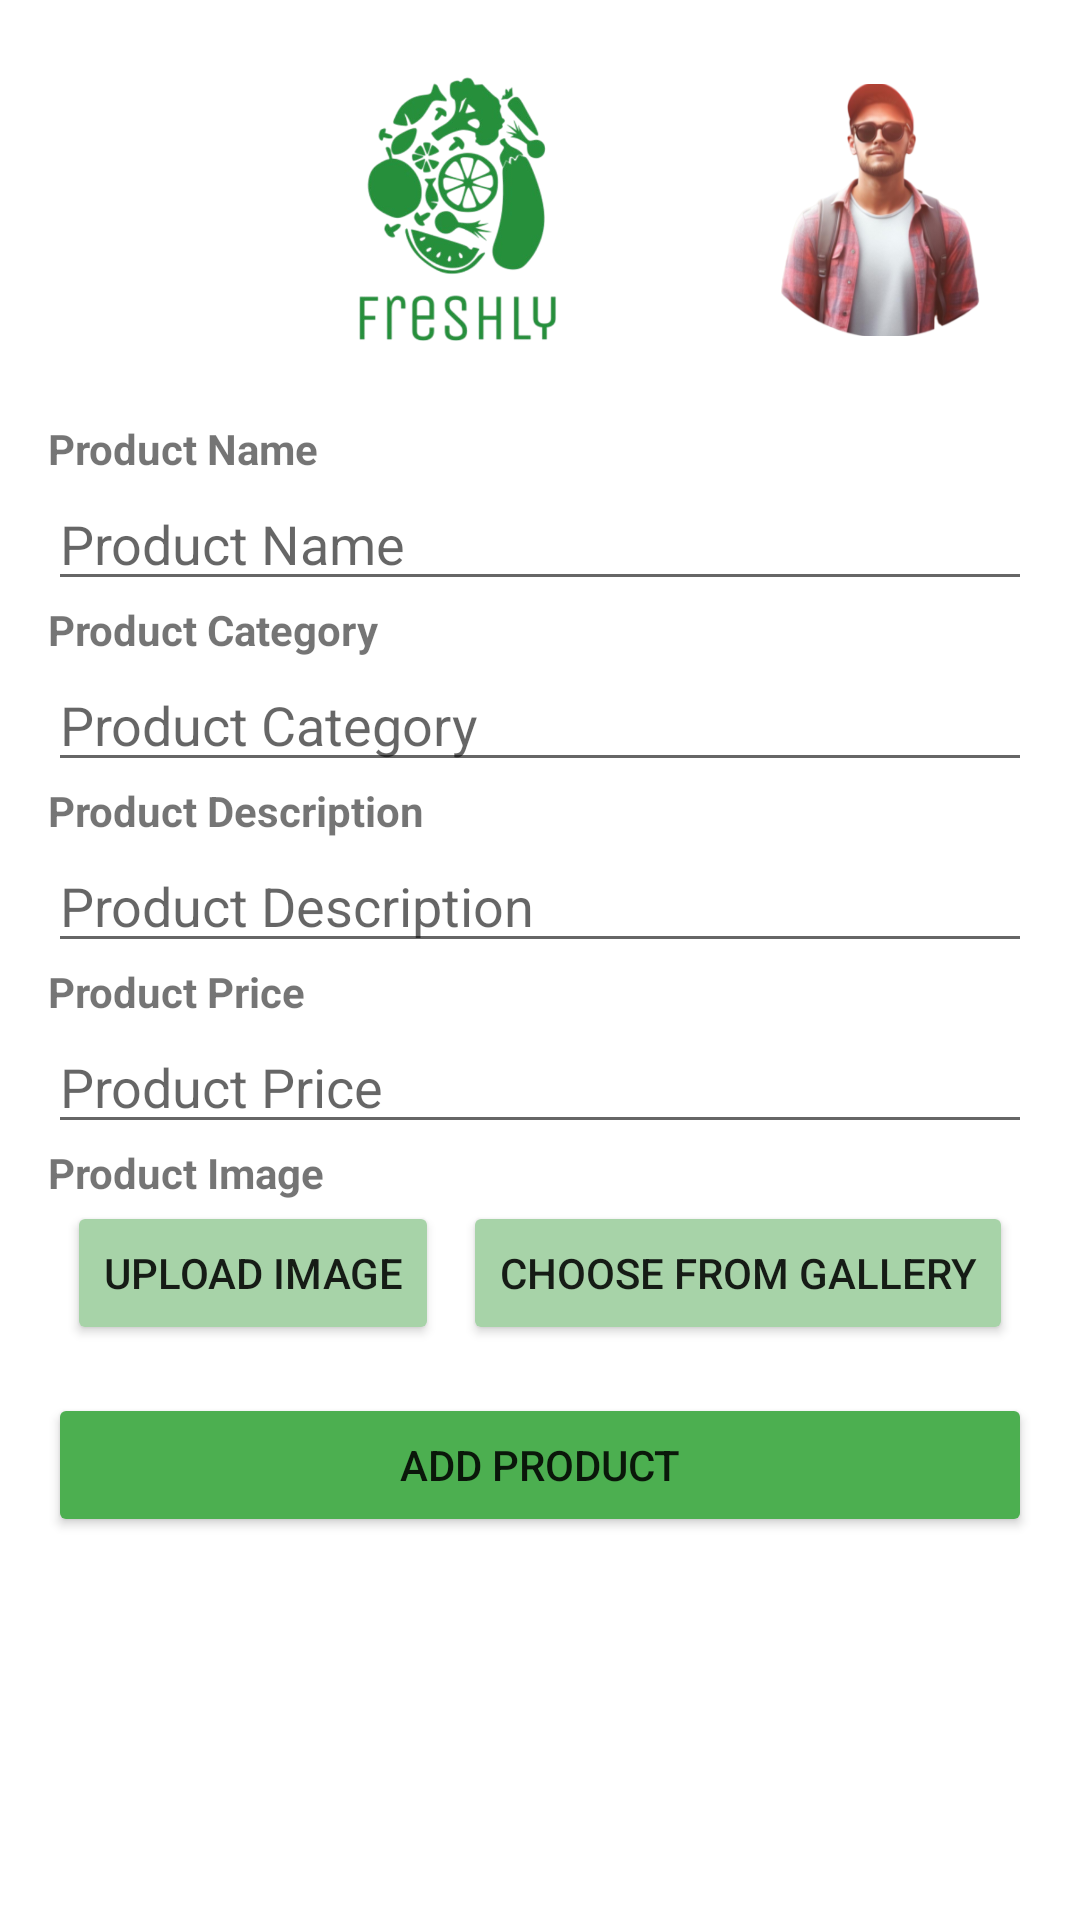

Icon bounding boxes for this 1080 × 1920 phone screenshot, format Rect(x1, y1, x2, y2):
profile pic: Rect(781, 84, 979, 336)
